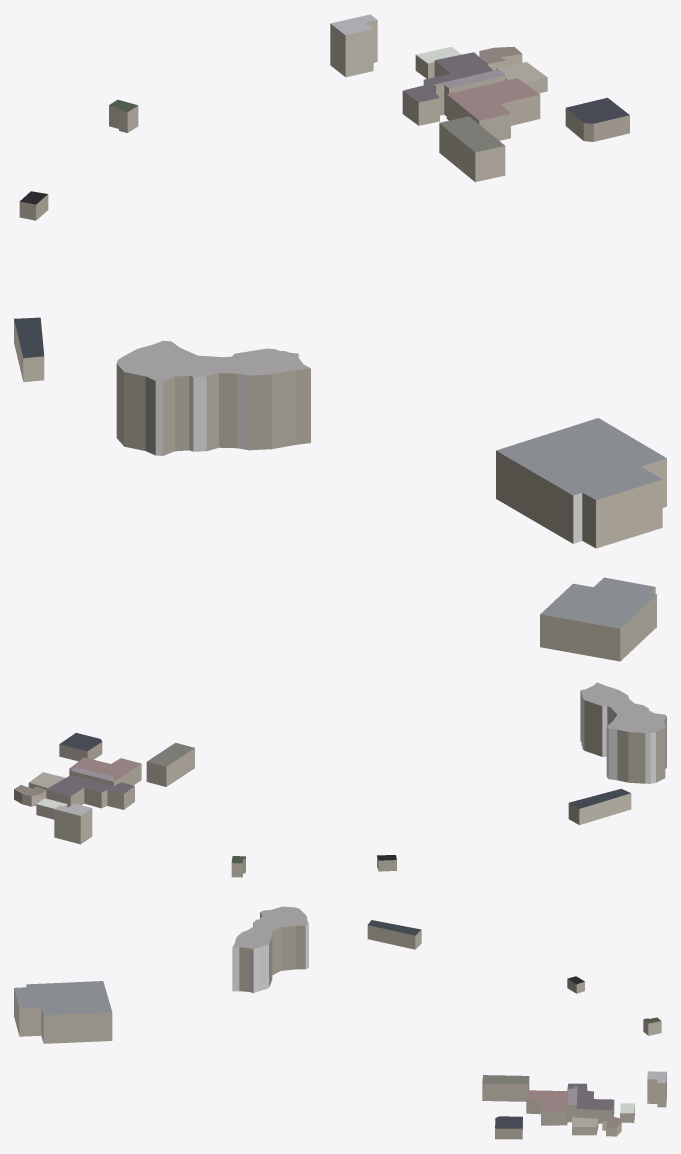
The picture shows the model from 3 angles, top to bottom: view 1: azimuth 30°, elevation 25°; view 2: azimuth 150°, elevation 25°; view 3: azimuth 270°, elevation 25°; orthographic projection. The views are drawn at different scales.
Parts seen in each view (by area): view 1: tuile; view 2: tuile; view 3: tuile.
Part boxes in pixels (x1,y1,x2,y2): tuile: (14, 14, 666, 548); tuile: (14, 577, 666, 877); tuile: (14, 906, 666, 1139).
Bounding box in the file's own units: 177 × 17.73 × 239.
